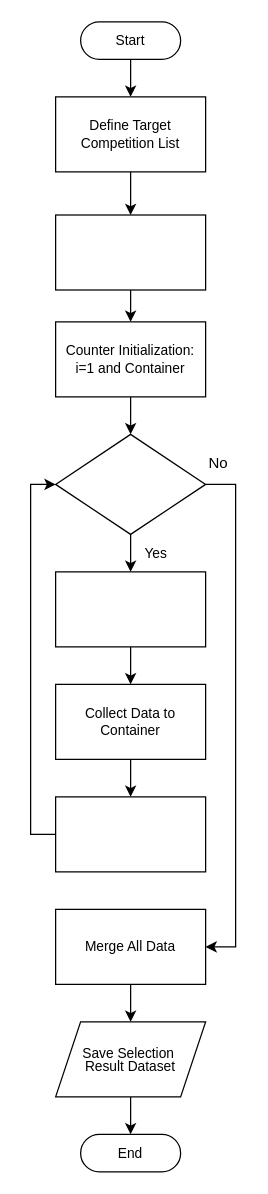
This 268x1194 diagram has some shape labels left out. The box of each missing label's shape, as (x1, y1, x2, y2) in pixels:
Define Competition List (Total N competitions): (54, 214, 206, 290)
i <= N ?: (54, 433, 206, 534)
Increment i: (54, 796, 206, 872)
Retrieve Data for i-th Competition: (54, 571, 206, 647)
